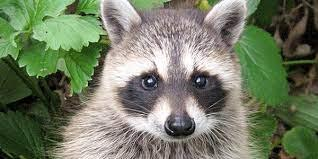raccoon: (35, 0, 278, 159)
